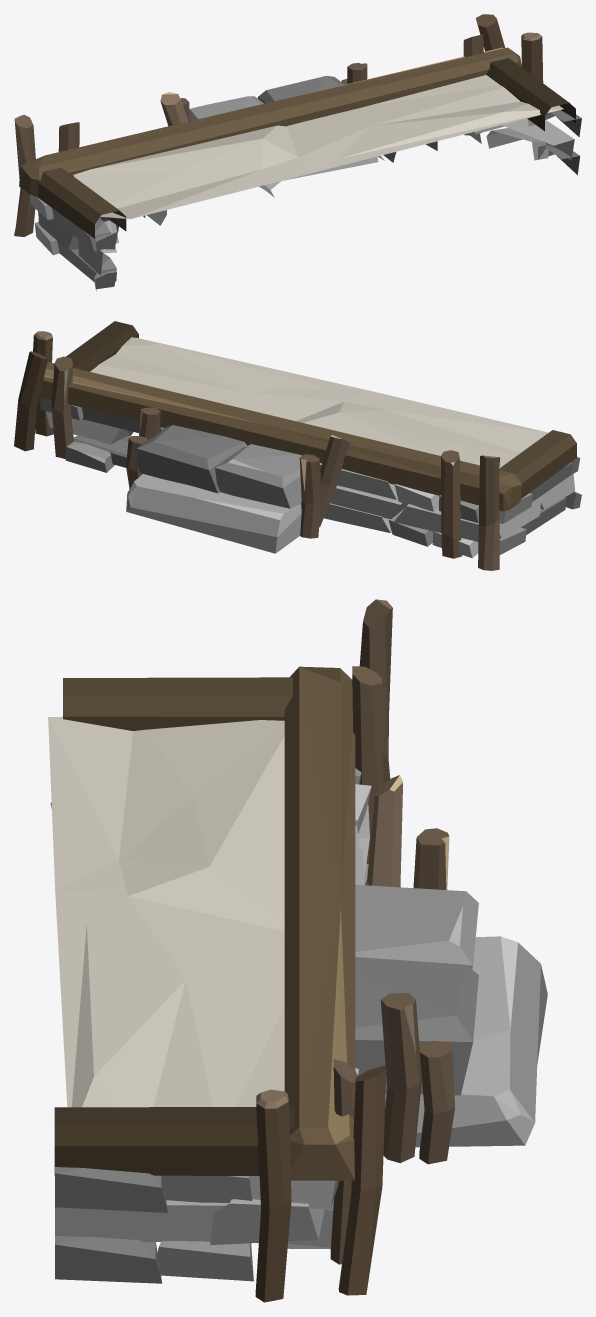
File: EA03_Village_HouseModule_Porch_01d.glb
3 renders of one model, top to bottom at view 1: azimuth 30°, elevation 25°; view 2: azimuth 150°, elevation 25°; view 3: azimuth 270°, elevation 25°, orthographic. The views are drawn at different scales.
Visible parts, largest first — view 1: EA03_Village_HouseModule_Porch_01d; view 2: EA03_Village_HouseModule_Porch_01d; view 3: EA03_Village_HouseModule_Porch_01d.
Part boxes in pixels (x1,y1,x2,y2): EA03_Village_HouseModule_Porch_01d: [14, 14, 581, 291]; EA03_Village_HouseModule_Porch_01d: [14, 321, 581, 570]; EA03_Village_HouseModule_Porch_01d: [48, 599, 547, 1302].
Bounding box in the file's own units: 6.63 × 1.45 × 2.89.
Materials: 1 (1 with a texture image).
